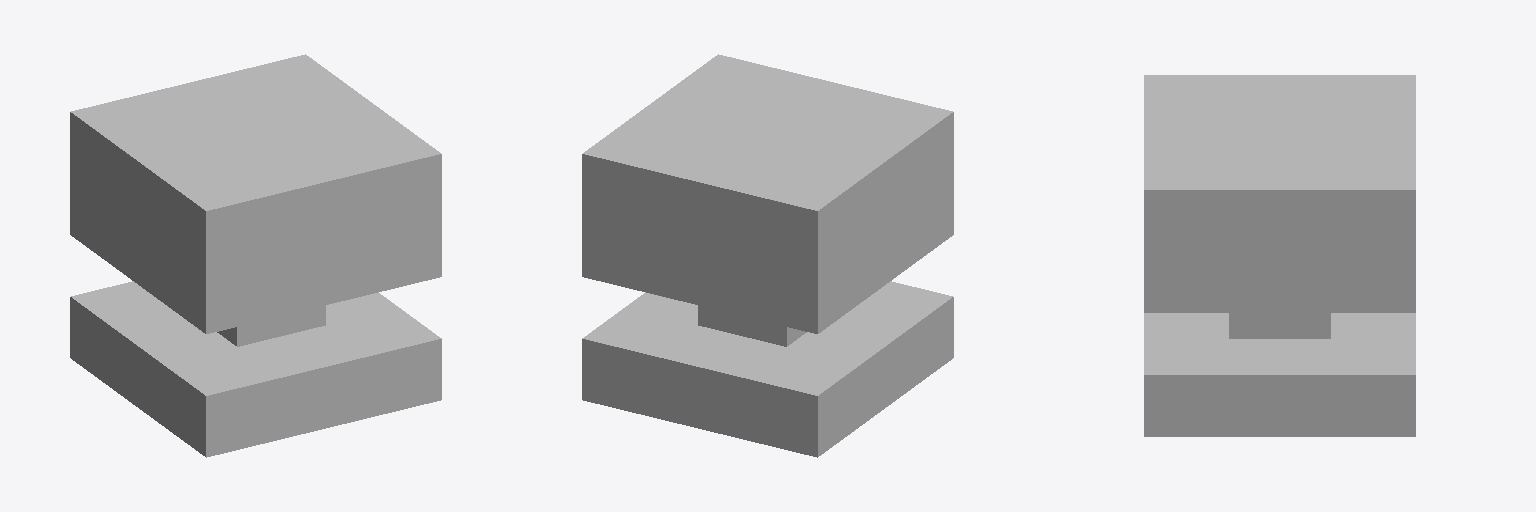
Rendered from tree1.obj.
The picture shows the model from 3 angles: view 1: azimuth 30°, elevation 25°; view 2: azimuth 150°, elevation 25°; view 3: azimuth 270°, elevation 25°; orthographic projection.
Visible parts, largest first — view 1: object 1; view 2: object 1; view 3: object 1.
Part boxes in pixels (left/top/right/bottom): object 1: left=70, top=54, right=441, bottom=457; object 1: left=582, top=54, right=953, bottom=457; object 1: left=1144, top=75, right=1415, bottom=436.
Bounding box in the file's own units: 1.6 × 1.6 × 1.6.